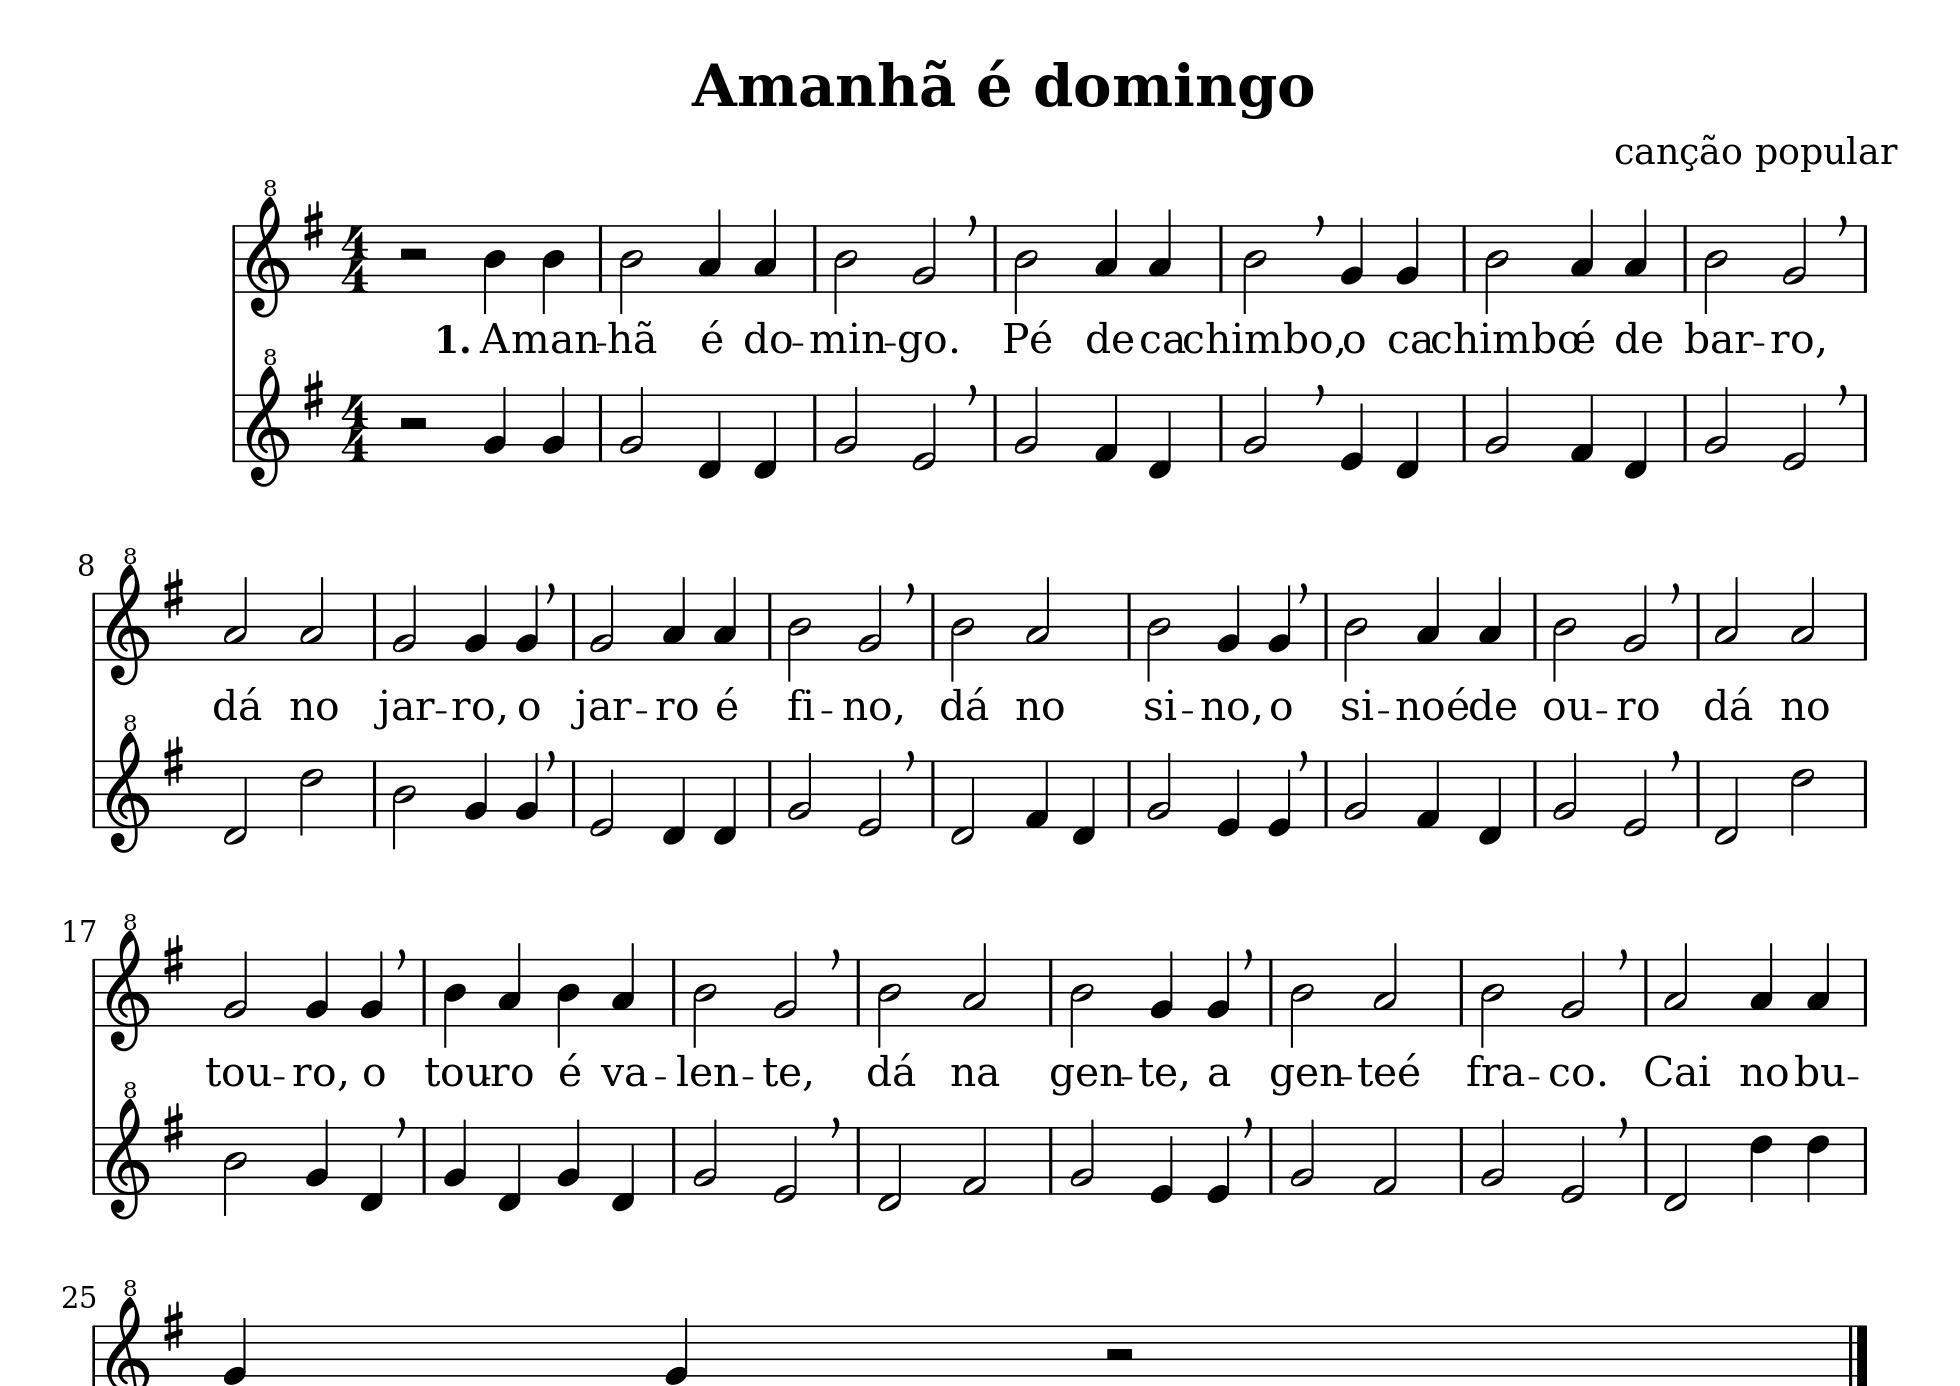1: (61, 916, 76, 945)
2: (60, 1282, 79, 1309)
2_-1: (874, 1123, 904, 1213), (949, 757, 976, 847), (1662, 1123, 1689, 1213), (222, 757, 249, 846), (1713, 757, 1740, 846)
2_0: (910, 391, 939, 472), (1621, 757, 1650, 838), (771, 1123, 799, 1204), (1560, 1123, 1588, 1204), (588, 757, 616, 837), (1782, 391, 1809, 472), (856, 757, 883, 838)
2_1: (961, 1123, 990, 1197), (1371, 1125, 1399, 1195)
2_2: (1371, 942, 1399, 1024), (1068, 1117, 1098, 1195), (1024, 576, 1051, 660), (1242, 384, 1270, 463), (1483, 384, 1512, 463), (588, 582, 616, 661), (786, 750, 814, 829), (1342, 750, 1371, 829), (1551, 750, 1579, 829), (618, 384, 646, 462), (1702, 385, 1731, 463), (222, 948, 250, 1026), (1288, 1117, 1317, 1195), (1479, 1117, 1507, 1195), (832, 384, 859, 463), (1146, 750, 1173, 829), (1014, 385, 1041, 463), (391, 583, 418, 661), (856, 583, 883, 661), (1623, 583, 1650, 661), (772, 949, 799, 1027), (1560, 949, 1587, 1027), (691, 1117, 718, 1195), (910, 216, 937, 292), (1782, 216, 1809, 292)
2_3: (1662, 942, 1690, 1027), (1713, 577, 1741, 661), (222, 574, 249, 661), (298, 576, 325, 660), (1789, 577, 1816, 660), (961, 942, 988, 1024)
2_4: (874, 957, 901, 1048), (1068, 957, 1095, 1048), (1479, 957, 1506, 1048), (1551, 592, 1578, 682), (220, 1126, 247, 1215), (786, 591, 811, 682), (949, 591, 975, 682), (1342, 591, 1368, 682), (691, 955, 717, 1047), (618, 223, 643, 313), (832, 223, 858, 313), (1012, 223, 1038, 313), (390, 759, 415, 849), (1288, 958, 1314, 1048), (1242, 223, 1267, 312), (1146, 591, 1170, 682), (1704, 223, 1728, 312), (1485, 223, 1509, 310)
2_6: (1789, 757, 1815, 835), (298, 757, 322, 835)
4: (339, 424, 370, 460), (340, 256, 370, 292), (340, 222, 369, 258), (340, 391, 369, 427)
4_-1: (607, 1123, 637, 1213), (495, 1123, 523, 1213), (660, 757, 688, 846), (1069, 757, 1098, 846), (1146, 391, 1173, 481), (1395, 391, 1422, 481), (1623, 391, 1650, 481), (358, 1123, 385, 1213), (696, 391, 723, 480), (751, 391, 778, 480), (711, 757, 738, 846), (1476, 757, 1503, 846)
4_0: (1147, 1123, 1176, 1204), (1204, 1123, 1233, 1204), (1339, 391, 1366, 472), (1215, 757, 1242, 838), (1266, 757, 1293, 838)
4_1: (1413, 757, 1441, 829), (1092, 391, 1119, 463), (1569, 391, 1596, 463), (1023, 757, 1050, 829)
4_2: (1395, 214, 1422, 294), (481, 384, 508, 463), (540, 384, 567, 463), (1149, 948, 1176, 1027), (555, 1116, 582, 1195), (1266, 583, 1293, 661), (1216, 582, 1242, 661), (514, 750, 540, 829), (304, 1116, 330, 1195), (442, 1116, 468, 1195), (463, 583, 489, 661), (514, 583, 540, 661), (463, 750, 489, 828), (304, 949, 330, 1027), (358, 949, 384, 1027), (1206, 949, 1231, 1027), (222, 1314, 249, 1386), (1341, 214, 1365, 294)
4_3: (1569, 208, 1596, 292), (751, 210, 778, 292), (661, 574, 687, 660), (712, 574, 738, 660), (1416, 574, 1441, 660), (496, 940, 522, 1026), (610, 940, 636, 1026), (1749, 940, 1774, 1026), (1806, 940, 1831, 1026), (1093, 208, 1119, 292), (1623, 208, 1648, 292), (1477, 576, 1503, 660), (1147, 210, 1173, 292), (697, 208, 721, 292)
4_4: (481, 223, 507, 316), (555, 957, 580, 1048), (442, 957, 466, 1048), (541, 223, 565, 313)
4_6: (1749, 1123, 1773, 1203), (1806, 1123, 1830, 1201)
5: (79, 1282, 96, 1309)
7: (79, 916, 97, 945)
8: (76, 550, 94, 577)
Final_barline: (1845, 1323, 1869, 1383)
High_Gclef: (243, 178, 289, 318), (244, 349, 289, 490), (106, 712, 150, 855), (105, 544, 148, 685), (106, 910, 148, 1051), (106, 1080, 148, 1221), (106, 1279, 147, 1386)
Rests2: (396, 246, 430, 262), (396, 415, 430, 432), (1104, 1345, 1137, 1362)
Sharp: (301, 199, 325, 253), (301, 367, 325, 421), (162, 567, 184, 621), (162, 933, 184, 987), (162, 1299, 184, 1353), (162, 735, 184, 787), (162, 1101, 184, 1153)
Single_barline: (1677, 225, 1693, 291), (1857, 592, 1873, 658), (1857, 760, 1873, 826), (1858, 225, 1873, 292), (1858, 958, 1873, 1026), (1638, 1126, 1653, 1194), (1858, 1126, 1873, 1194), (226, 225, 241, 291), (226, 394, 241, 460), (592, 394, 607, 460), (1215, 394, 1230, 460), (1458, 394, 1473, 460), (1858, 394, 1873, 460), (565, 592, 580, 658), (762, 592, 777, 658), (925, 592, 940, 658), (1527, 592, 1542, 658), (367, 760, 382, 826), (565, 760, 580, 826), (1528, 760, 1543, 826), (1690, 760, 1705, 826), (850, 958, 865, 1024), (1044, 958, 1059, 1024), (1455, 958, 1470, 1024), (667, 1126, 682, 1192), (1044, 1126, 1059, 1192), (850, 1126, 865, 1192), (1455, 1126, 1470, 1192), (592, 225, 607, 289), (807, 225, 822, 289), (1215, 225, 1230, 289), (988, 394, 1003, 459), (367, 594, 382, 658), (666, 958, 681, 1023), (1458, 226, 1473, 289), (87, 592, 100, 660), (1264, 958, 1278, 1026), (1639, 958, 1653, 1026), (988, 225, 1002, 291), (808, 394, 822, 460), (1680, 394, 1693, 460), (1692, 592, 1705, 658), (763, 760, 777, 826), (87, 760, 100, 826), (87, 958, 100, 1024), (417, 958, 430, 1024), (1264, 1126, 1278, 1192), (87, 1126, 100, 1192), (417, 1126, 430, 1192), (1320, 760, 1333, 825), (87, 1324, 100, 1384), (1320, 592, 1332, 655)
TimeSig: (340, 393, 370, 460), (340, 223, 369, 292)
